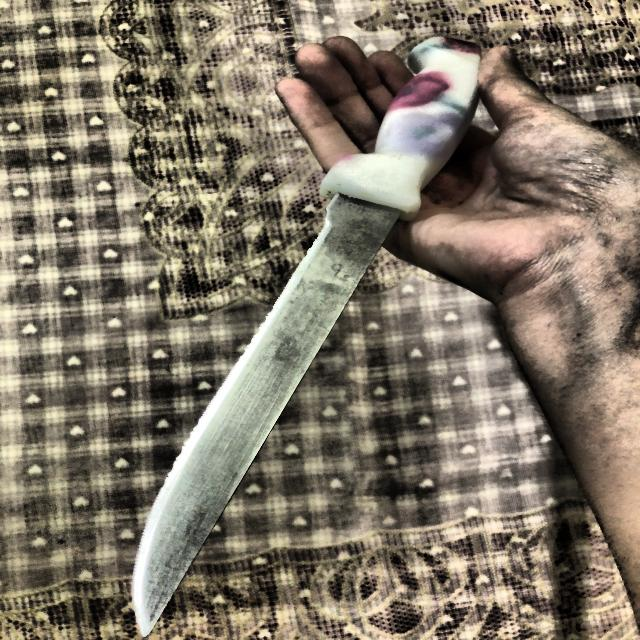knife: (133, 38, 486, 635)
